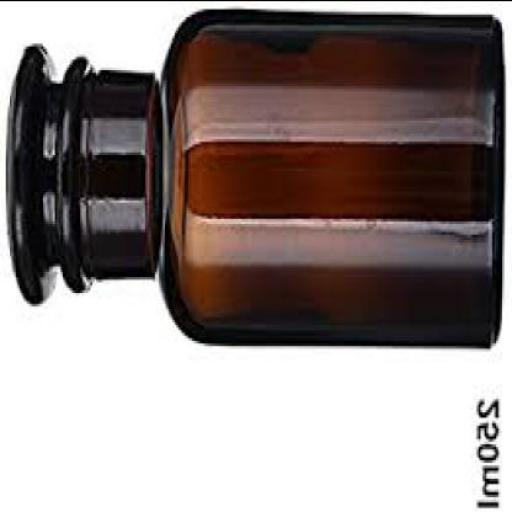glass: (6, 2, 504, 344)
